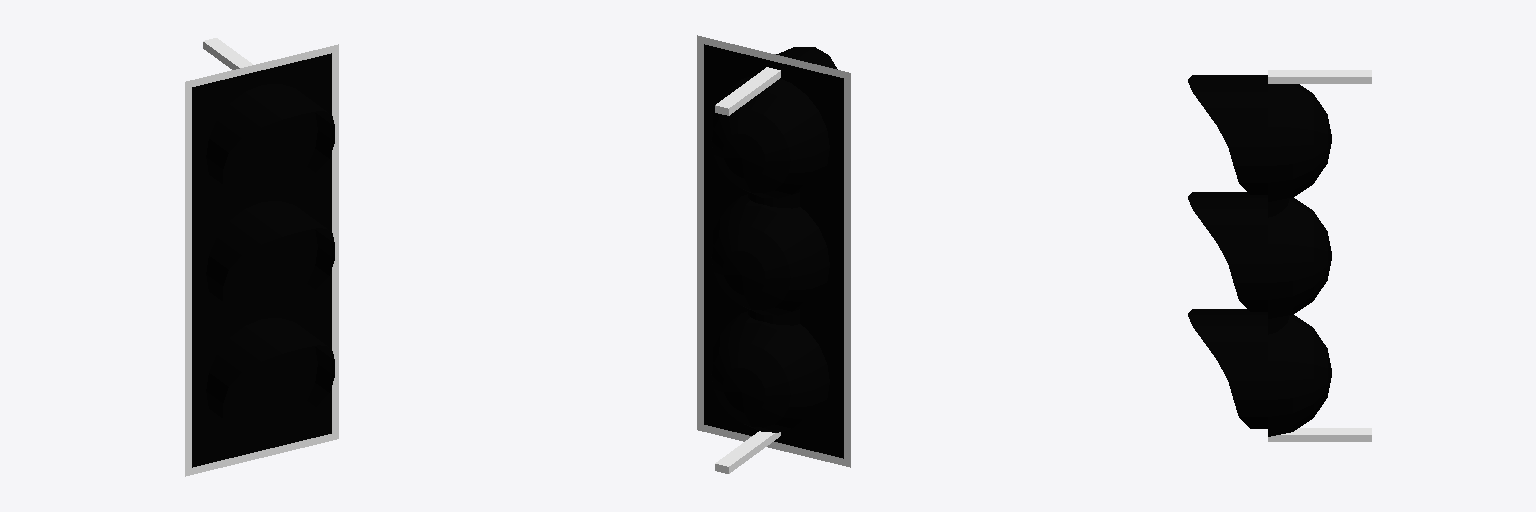
The model's file is TLS6.obj.
3 views of the same model, side by side, from view 1: azimuth 30°, elevation 25°; view 2: azimuth 150°, elevation 25°; view 3: azimuth 270°, elevation 25° (orthographic).
Bounding box in the file's own units: 1.38 × 3.38 × 1.43.